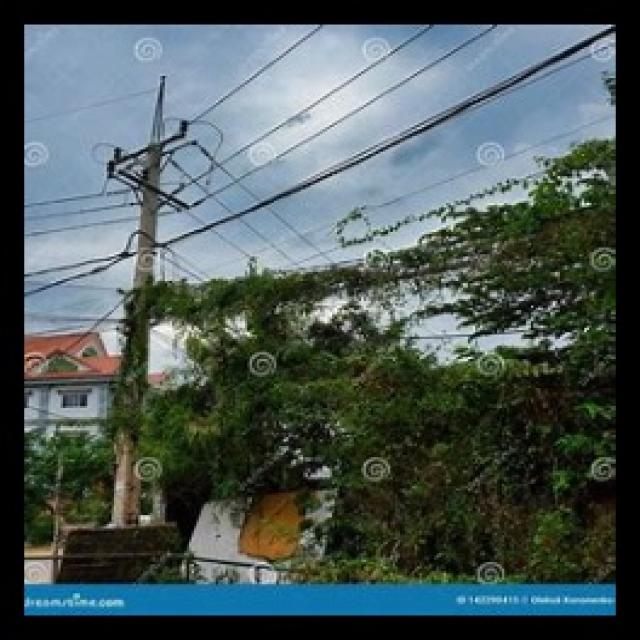critical vegetation: (136, 250, 614, 402)
